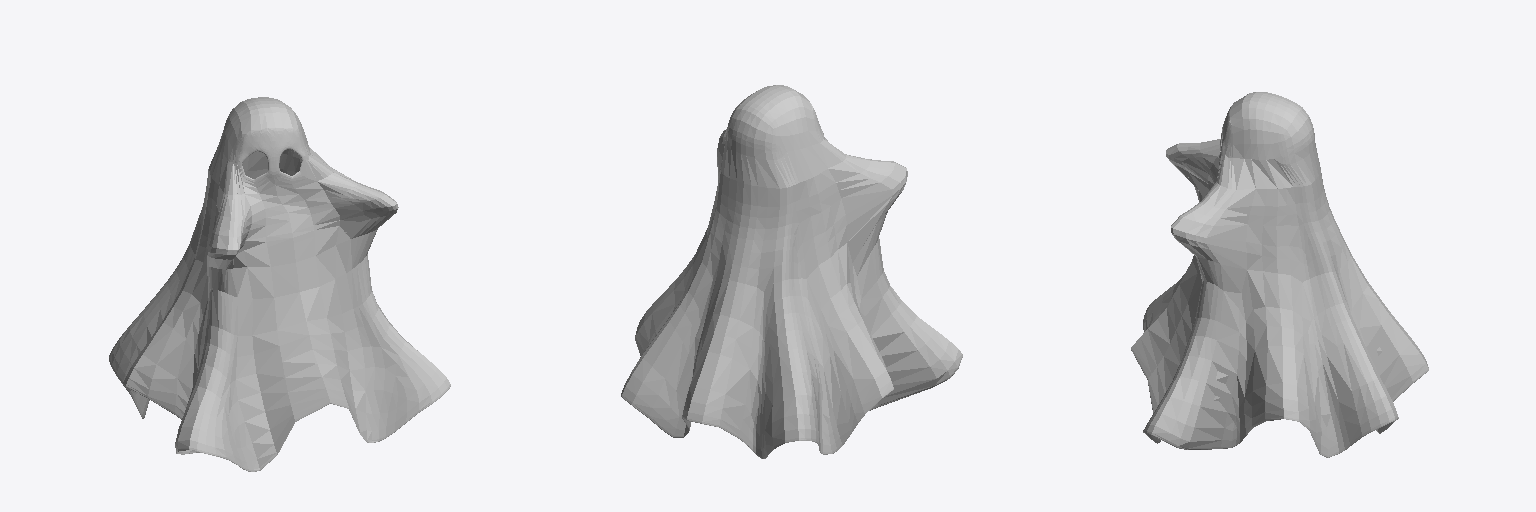
3 views of the same model, side by side, from view 1: azimuth 30°, elevation 25°; view 2: azimuth 150°, elevation 25°; view 3: azimuth 270°, elevation 25° (orthographic).
Visible parts, largest first — view 1: youlinguu2:Group3 walk1; view 2: youlinguu2:Group3 walk1; view 3: youlinguu2:Group3 walk1.
Part boxes in pixels (x1,y1,x2,y2): youlinguu2:Group3 walk1: (109,97,450,471); youlinguu2:Group3 walk1: (621,85,962,458); youlinguu2:Group3 walk1: (1131,92,1428,457).
Size of the model in its own units: 34.86 by 39.48 by 33.59.